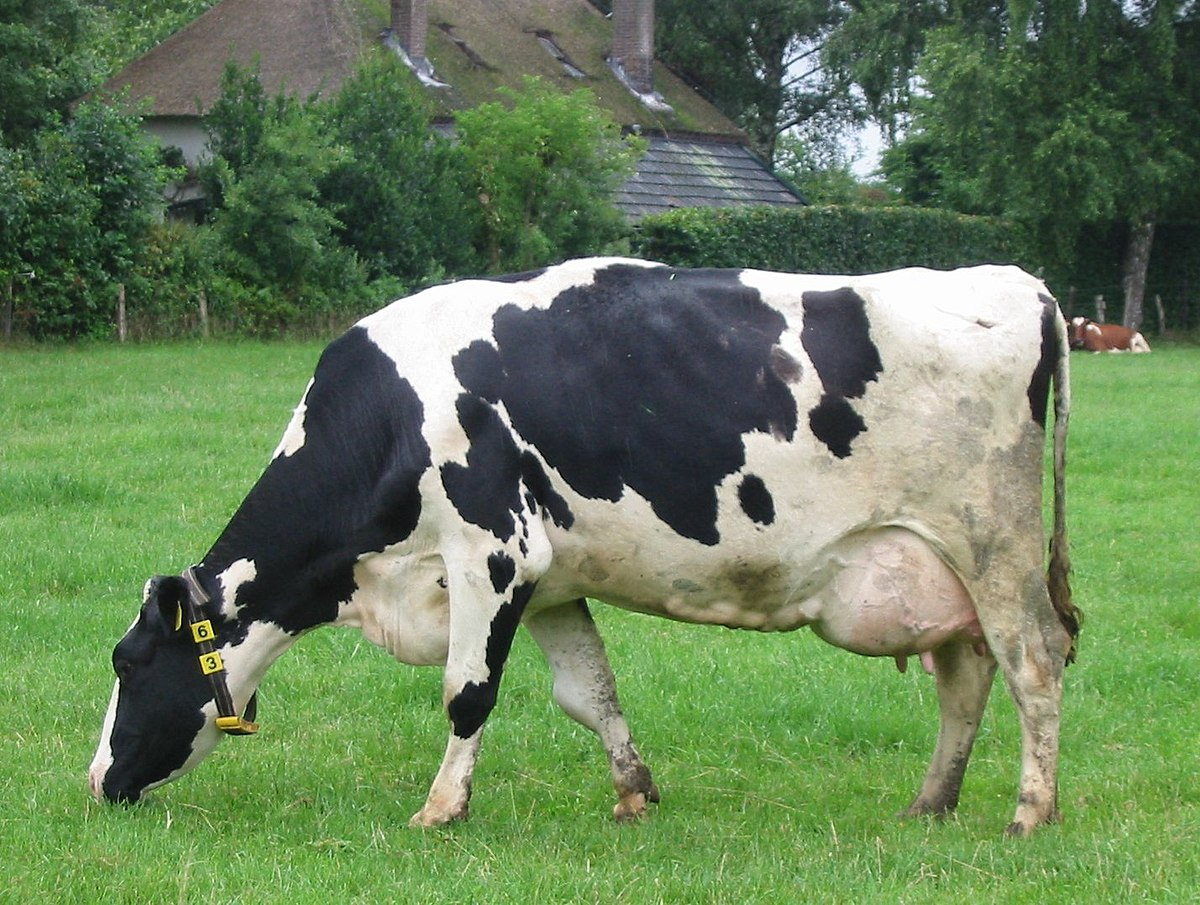cow: (63, 261, 1081, 885)
